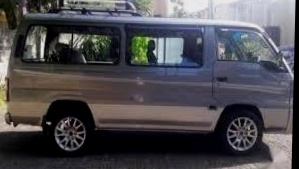van: (2, 0, 293, 165)
